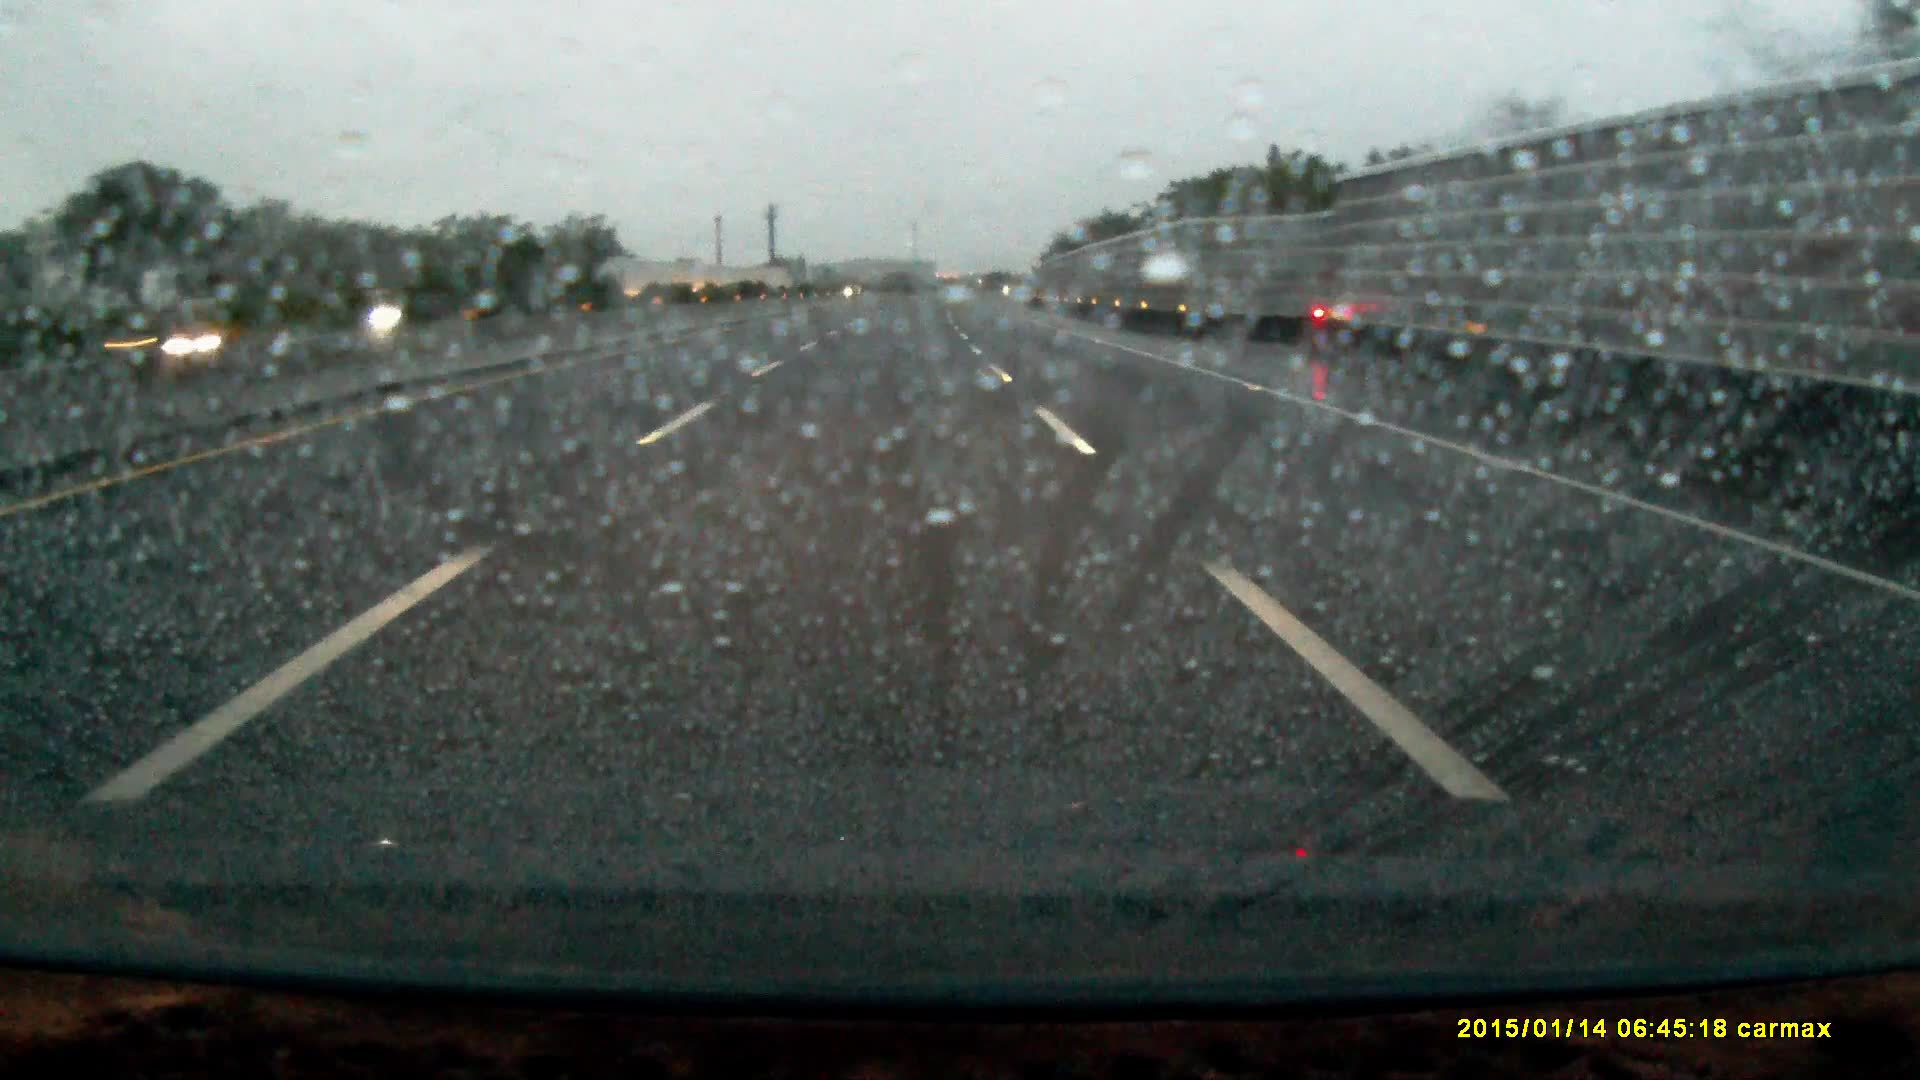vehicle: (306, 294, 402, 338)
